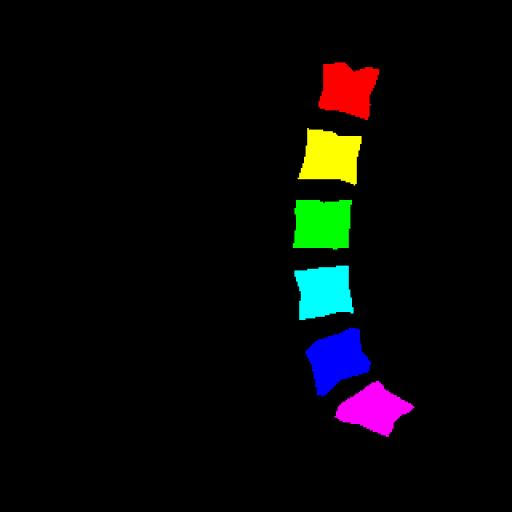L1: (318, 62, 379, 120)
L2: (298, 129, 362, 184)
L3: (293, 200, 352, 248)
L4: (294, 265, 354, 320)
L5: (306, 328, 371, 396)
S1: (335, 381, 414, 436)
